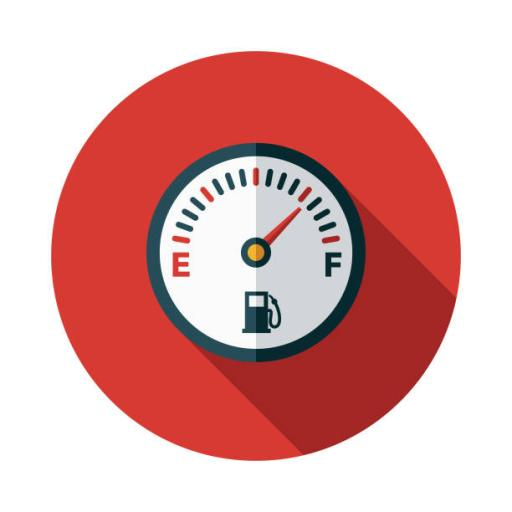empty: (168, 247, 193, 281)
fuel_icon: (241, 288, 282, 336)
full: (323, 249, 344, 280)
guage_area: (149, 140, 367, 367)
needle_center: (237, 231, 275, 270)
needle_tip: (291, 206, 304, 218)
